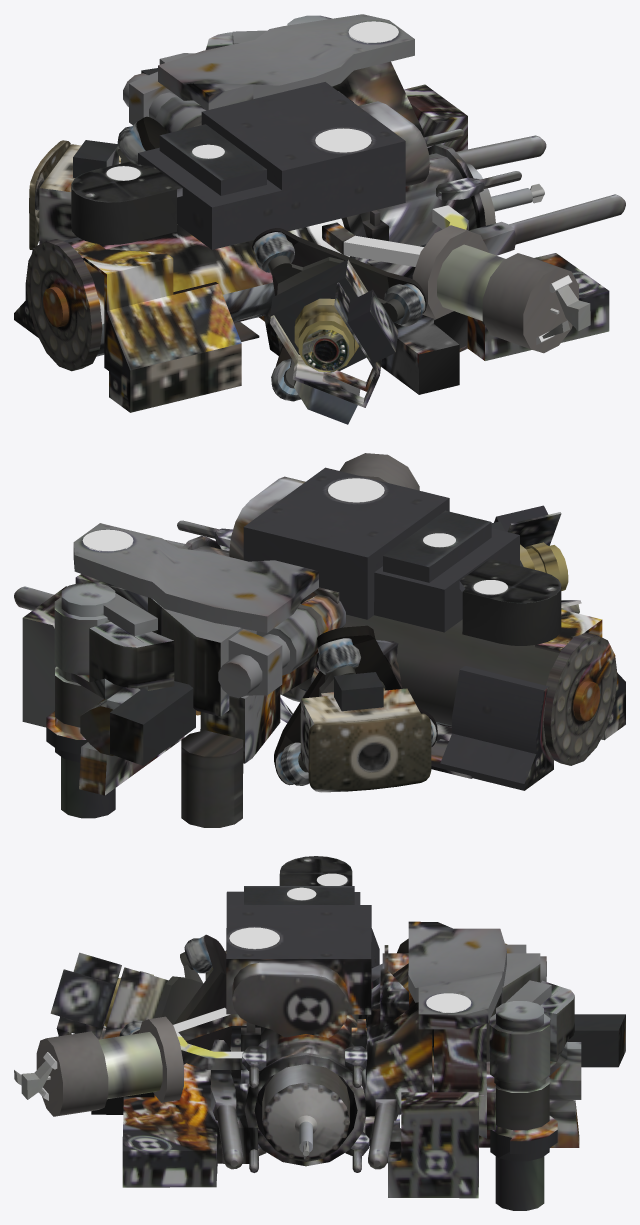
Rendered from arm_turret_link.dae.
3 views of the same model, one above another, from view 1: azimuth 30°, elevation 25°; view 2: azimuth 150°, elevation 25°; view 3: azimuth 270°, elevation 25° (orthographic). The views are drawn at different scales.
Visible parts, largest first — view 1: arm_turret_link; view 2: arm_turret_link; view 3: arm_turret_link.
Boxes of the visible parts, box(x1,y1,x2,y2) form: arm_turret_link: box(14, 14, 625, 424); arm_turret_link: box(14, 453, 625, 827); arm_turret_link: box(14, 856, 625, 1210).
Size of the model in its own units: 0.5766 by 0.6411 by 0.2436.
4 materials, 2 textured.
